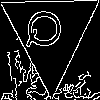Q: (25, 9, 69, 49)
